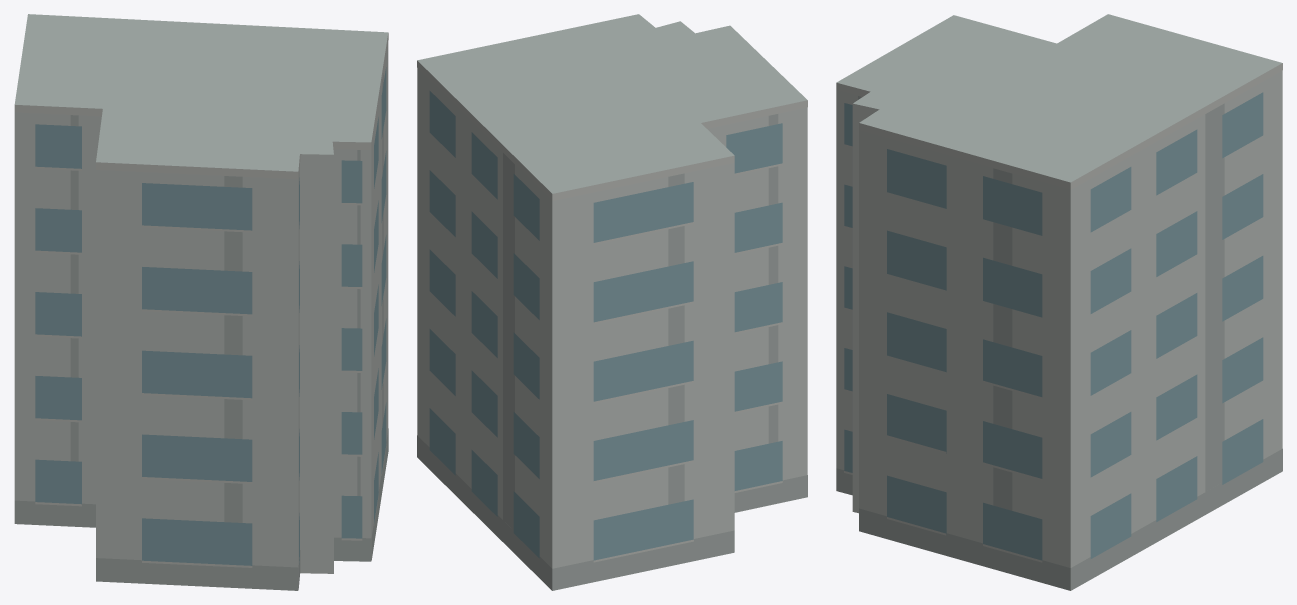
File: survey-upis-32894135.glb
3 renders of one model, left to right at view 1: azimuth 30°, elevation 25°; view 2: azimuth 150°, elevation 25°; view 3: azimuth 270°, elevation 25°, orthographic. The views are drawn at different scales.
Parts seen in each view (by area): view 1: survey-upis-32894135.tmp; view 2: survey-upis-32894135.tmp; view 3: survey-upis-32894135.tmp.
Part boxes in pixels (left/top/right/bottom): survey-upis-32894135.tmp: left=14, top=14, right=388, bottom=590; survey-upis-32894135.tmp: left=417, top=14, right=807, bottom=590; survey-upis-32894135.tmp: left=836, top=14, right=1282, bottom=590.
Size of the model in its own units: 11.74 by 13.25 by 13.14.
